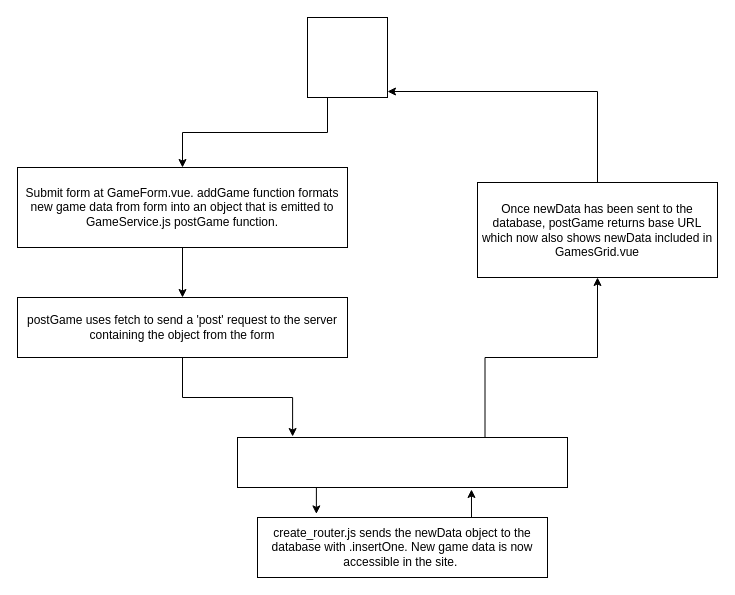
Some shapes in this 735 by 595 pixel diagram are drawn without their labels. Here are the shapes that lost their labels. From the top down, the centre of each, then its label:
[347,57]: CLIENT
[402,462]: SERVER
